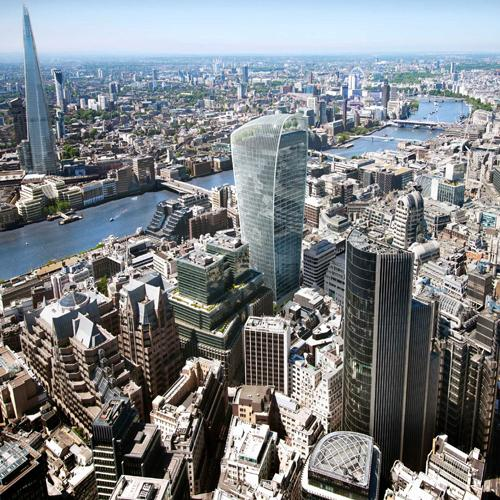Walkie talkie: (226, 101, 310, 288)
